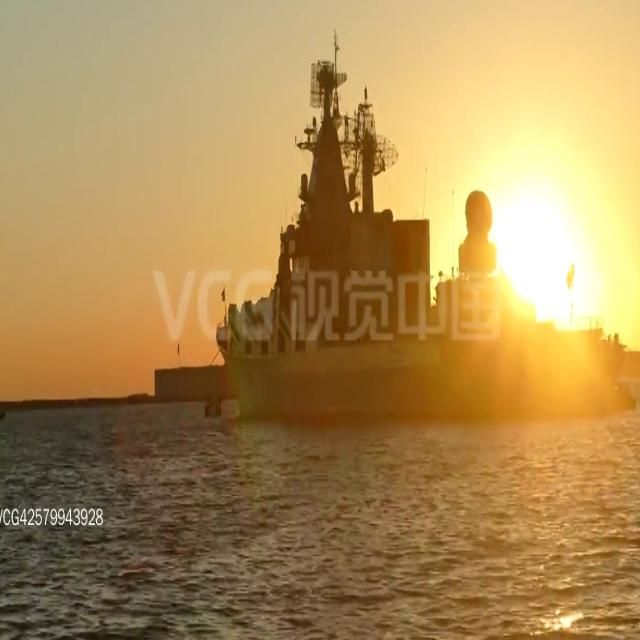cargoship: (0, 389, 7, 422)
navalvessels: (217, 46, 623, 403)
